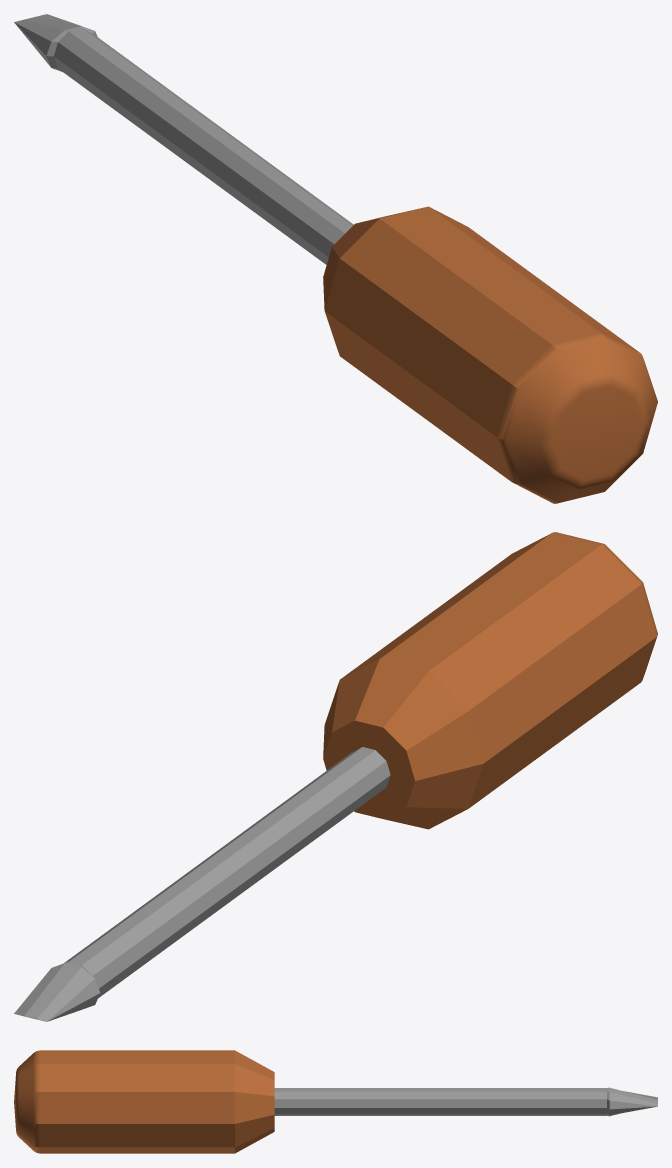
The model's file is Screwdriver.fbx.
The picture shows the model from 3 angles, top to bottom: view 1: azimuth 30°, elevation 25°; view 2: azimuth 150°, elevation 25°; view 3: azimuth 270°, elevation 25°; orthographic projection. The views are drawn at different scales.
Visible parts, largest first — view 1: Screwdriver; view 2: Screwdriver; view 3: Screwdriver.
Boxes of the visible parts, left/top/right/bottom form: Screwdriver: left=14, top=14, right=657, bottom=503; Screwdriver: left=14, top=532, right=657, bottom=1021; Screwdriver: left=14, top=1050, right=657, bottom=1153.
Size of the model in its own units: 0.5884 by 0.5596 by 3.65.
